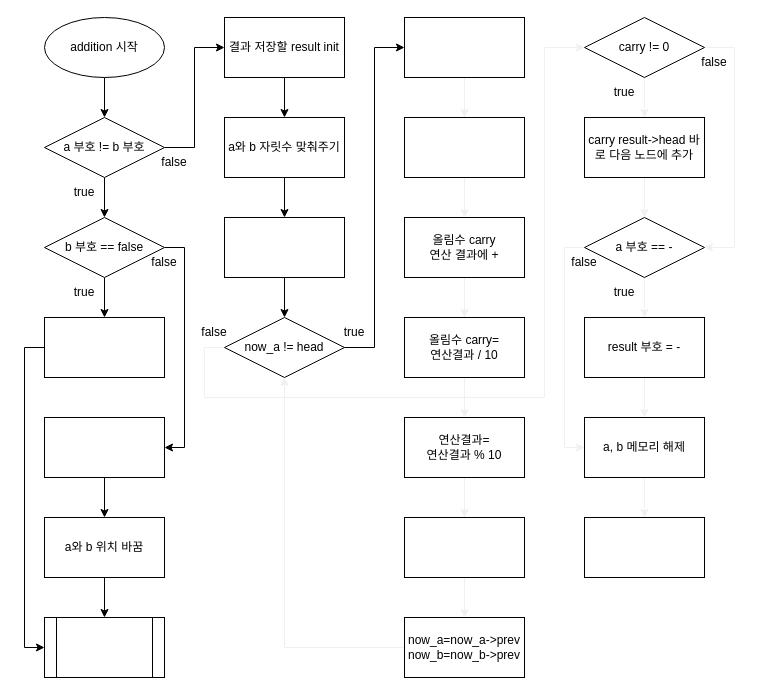
This 762x695 diagram has some shape labels left out. Here are the shapes that lost their labels. From the top down, the centre of each, then its label:
[464,47]: now_a, now_b 숫자 데이터 가져옴
[464,147]: 가져온 데이터 각각 -'0' 해준뒤 더함
[284,247]: a, b 맨 오른쪽 자리수 가져오기 now_a, now_b
[104,347]: b 부호 true (양수)
[104,447]: a 부호 true (양수)
[464,547]: 연산결과 result->head 바로 다음 노드에 추가
[644,547]: result 리턴
[104,647]: subtraction(a, b)
